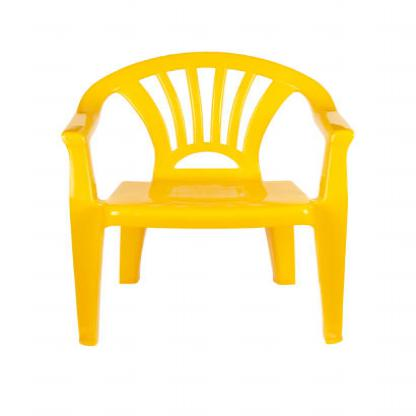chair: (55, 51, 371, 352)
